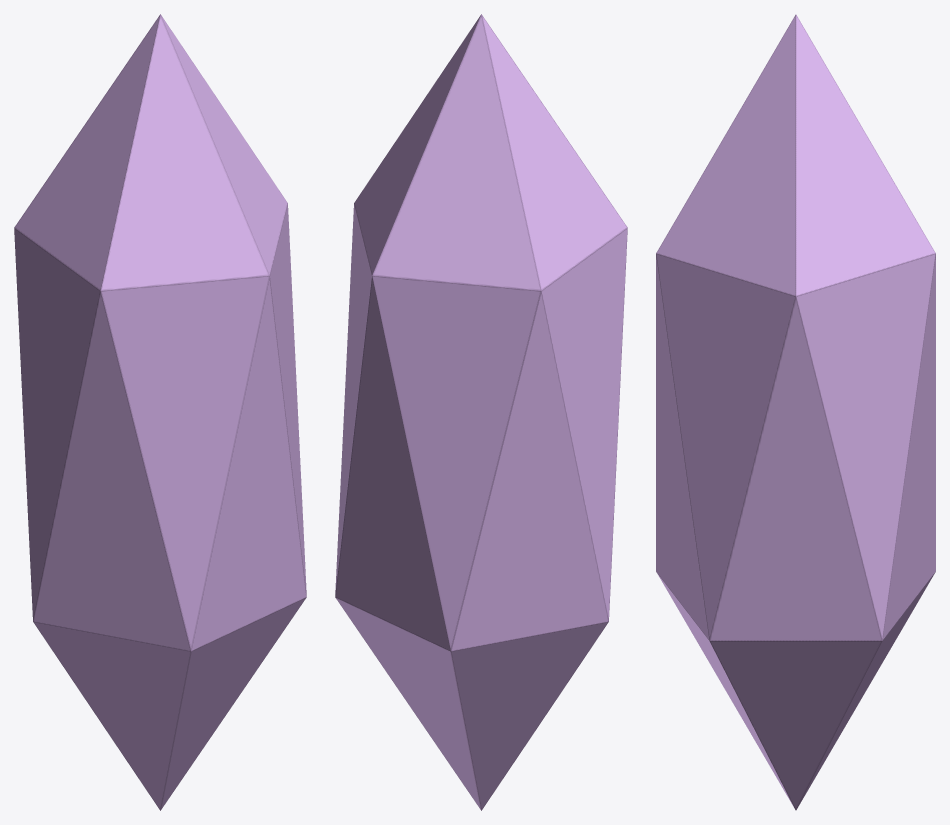
The model's file is Crystal_01_01.fbx.
3 views of the same model, side by side, from view 1: azimuth 30°, elevation 25°; view 2: azimuth 150°, elevation 25°; view 3: azimuth 270°, elevation 25° (orthographic).
Parts seen in each view (by area): view 1: Crystal_01; view 2: Crystal_01; view 3: Crystal_01.
Boxes of the visible parts, left/top/right/bottom form: Crystal_01: left=14, top=14, right=306, bottom=810; Crystal_01: left=335, top=14, right=627, bottom=810; Crystal_01: left=656, top=14, right=935, bottom=810.
Bounding box in the file's own units: 179 × 534 × 170.
1 material, 1 textured.
